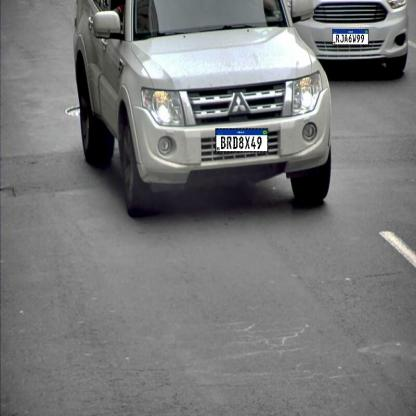PlacaM: (216, 128, 268, 153), (332, 29, 369, 45)
